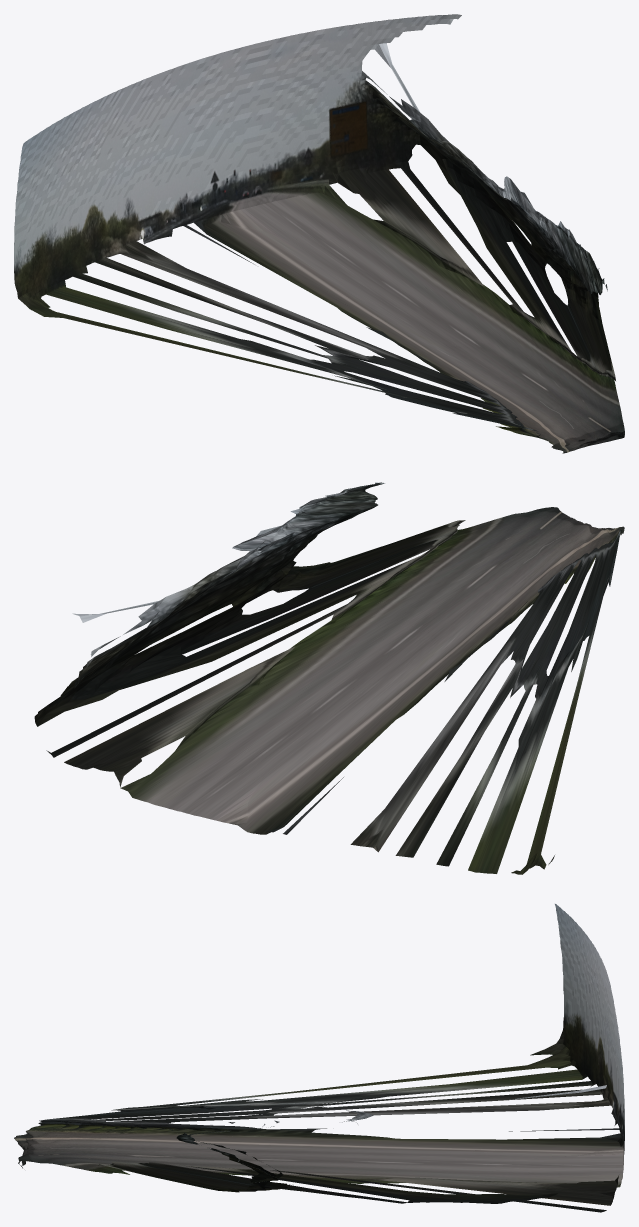
3 views of the same model, one above another, from view 1: azimuth 30°, elevation 25°; view 2: azimuth 150°, elevation 25°; view 3: azimuth 270°, elevation 25° (orthographic). The views are drawn at different scales.
Visible parts, largest first — view 1: defaultobject; view 2: defaultobject; view 3: defaultobject.
Boxes of the visible parts, x1,y1,x2,y2 form: defaultobject: [14, 14, 624, 453]; defaultobject: [34, 482, 624, 874]; defaultobject: [14, 904, 624, 1212].
Size of the model in its own units: 34.6 by 13.2 by 44.68.
Materials: 1 (1 with a texture image).
